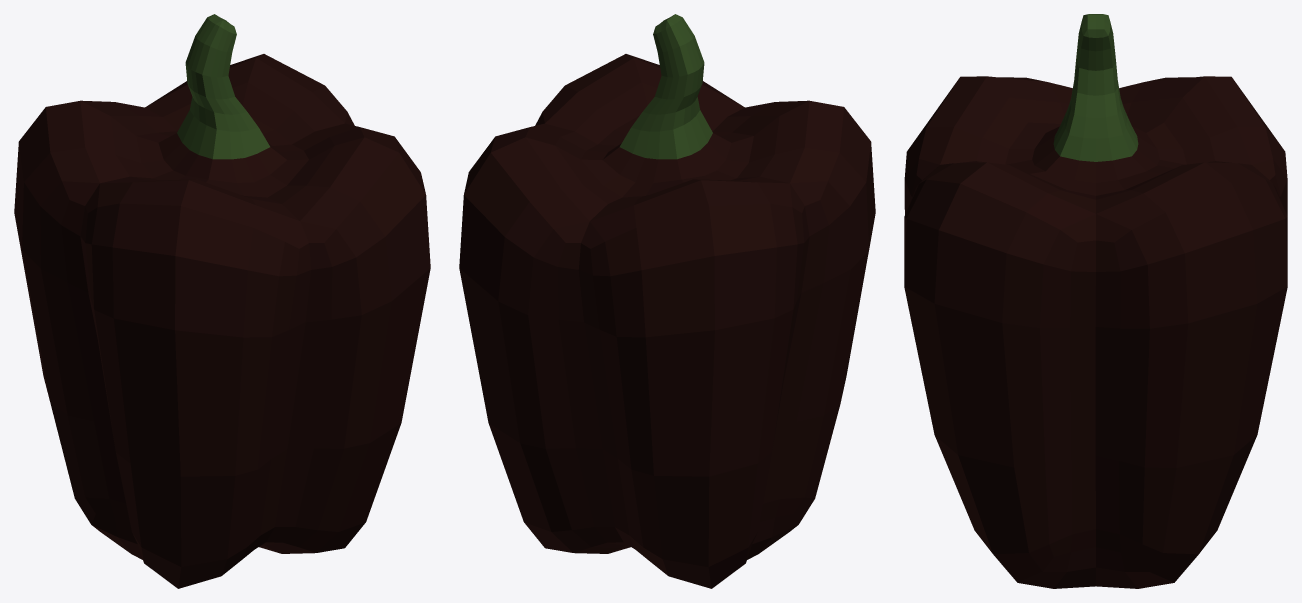
File: Pepper_Red.obj
The picture shows the model from 3 angles, left to right: view 1: azimuth 30°, elevation 25°; view 2: azimuth 150°, elevation 25°; view 3: azimuth 270°, elevation 25°; orthographic projection.
Parts seen in each view (by area): view 1: Pepper_Red_Cylinder.031; view 2: Pepper_Red_Cylinder.031; view 3: Pepper_Red_Cylinder.031.
Part boxes in pixels (x1=…): Pepper_Red_Cylinder.031: x1=14, y1=14, x2=430, y2=588; Pepper_Red_Cylinder.031: x1=459, y1=14, x2=875, y2=588; Pepper_Red_Cylinder.031: x1=904, y1=14, x2=1287, y2=588.
Size of the model in its own units: 0.674 by 1.11 by 0.7118.
